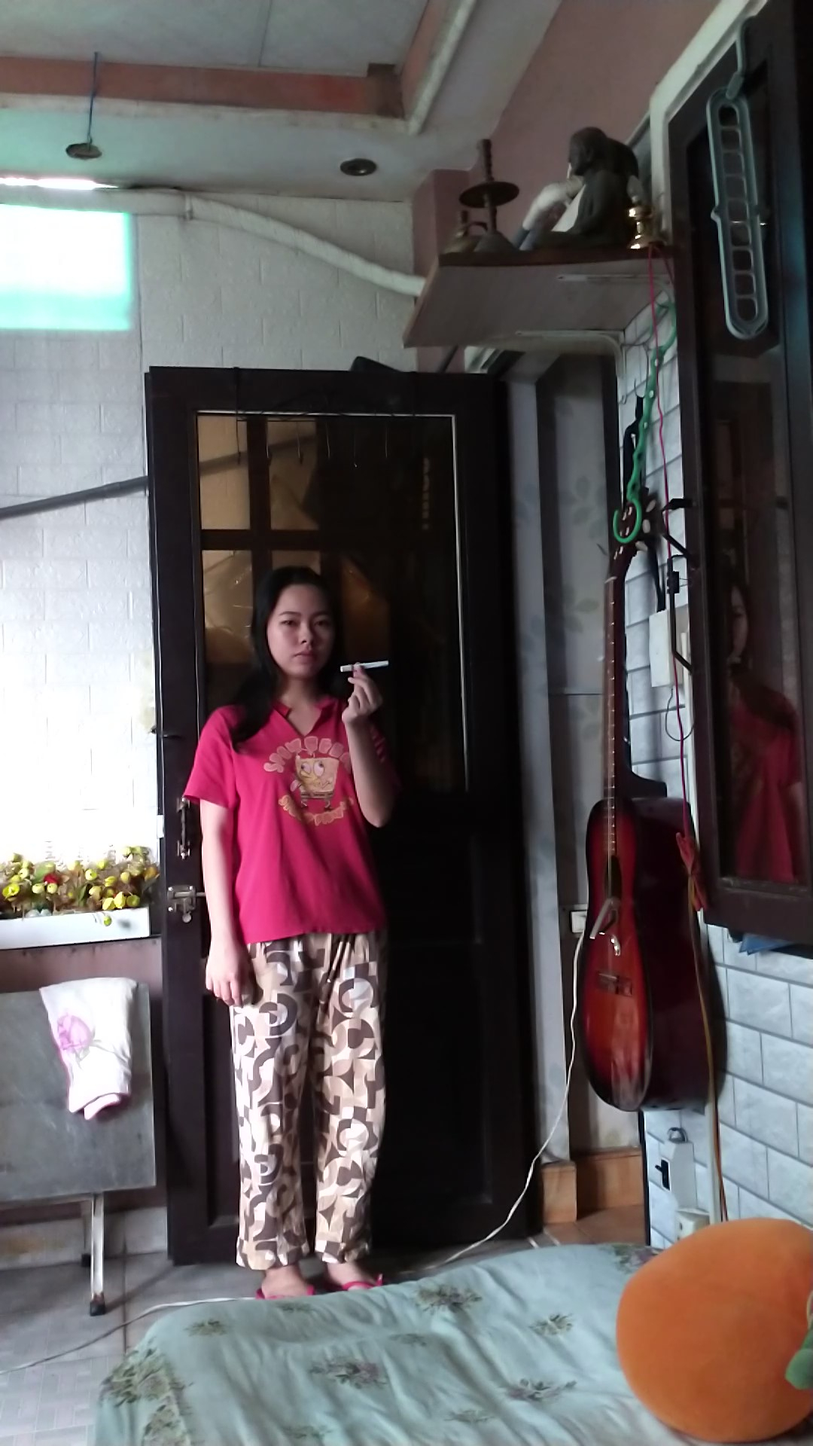cigarette: (338, 656, 394, 675)
person: (186, 524, 401, 1303)
